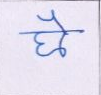au_matra: (43, 11, 72, 54)
